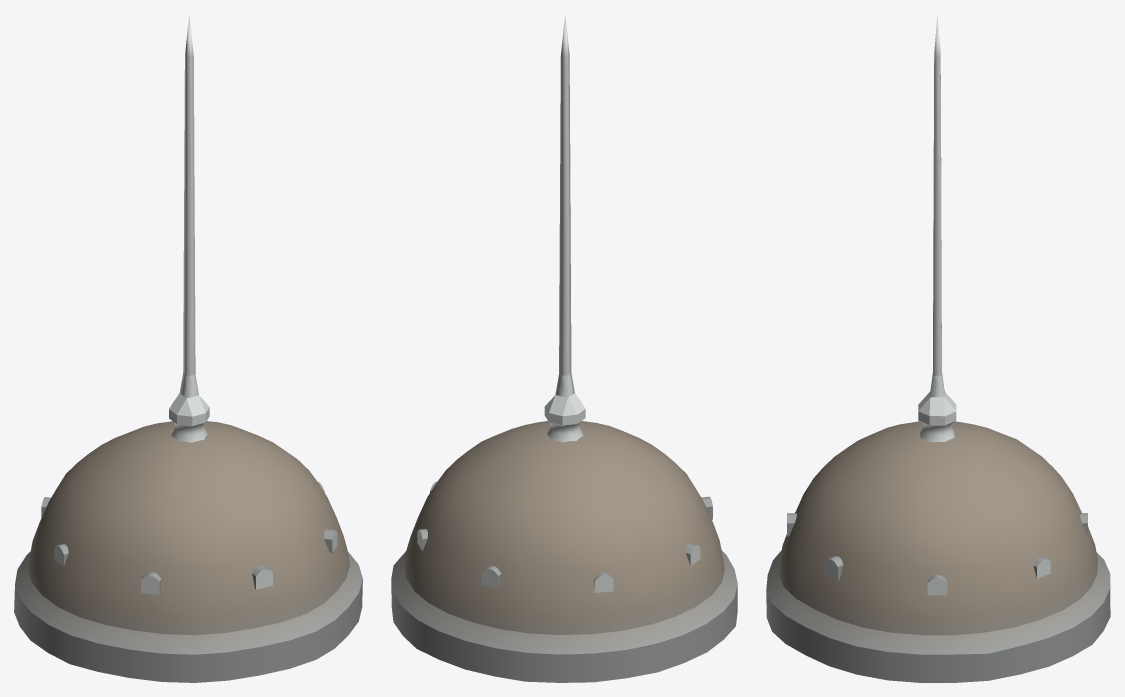
3 views of the same model, side by side, from view 1: azimuth 30°, elevation 25°; view 2: azimuth 150°, elevation 25°; view 3: azimuth 270°, elevation 25° (orthographic).
Parts seen in each view (by area): view 1: G:\FFXIV-MapTools\exports\w1t1\bg\ffxiv\wil_w1\twn\common\bg (×3); view 2: G:\FFXIV-MapTools\exports\w1t1\bg\ffxiv\wil_w1\twn\common\bg (×3); view 3: G:\FFXIV-MapTools\exports\w1t1\bg\ffxiv\wil_w1\twn\common\bg (×3).
Boxes of the visible parts, x1,y1,x2,y2 form: G:\FFXIV-MapTools\exports\w1t1\bg\ffxiv\wil_w1\twn\common\bg (×3): (14,15,362,682); G:\FFXIV-MapTools\exports\w1t1\bg\ffxiv\wil_w1\twn\common\bg (×3): (391,15,737,682); G:\FFXIV-MapTools\exports\w1t1\bg\ffxiv\wil_w1\twn\common\bg (×3): (766,14,1110,682).
Size of the model in its own units: 39.91 by 75.6 by 39.58.
